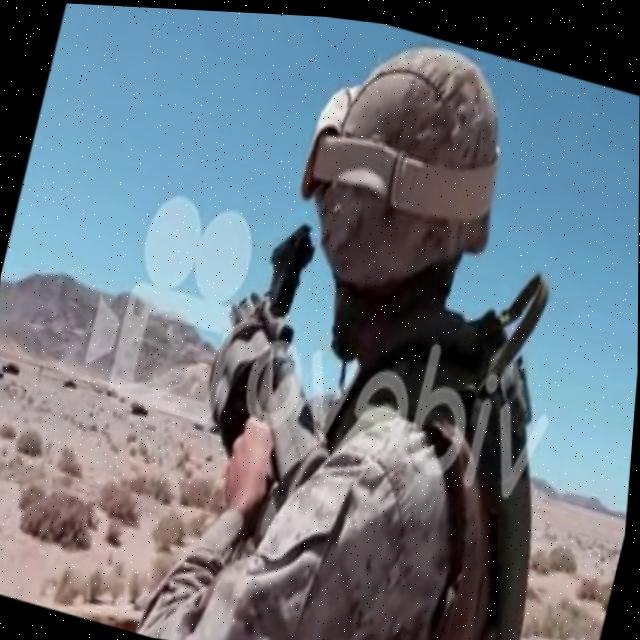rocket: (185, 211, 378, 528)
